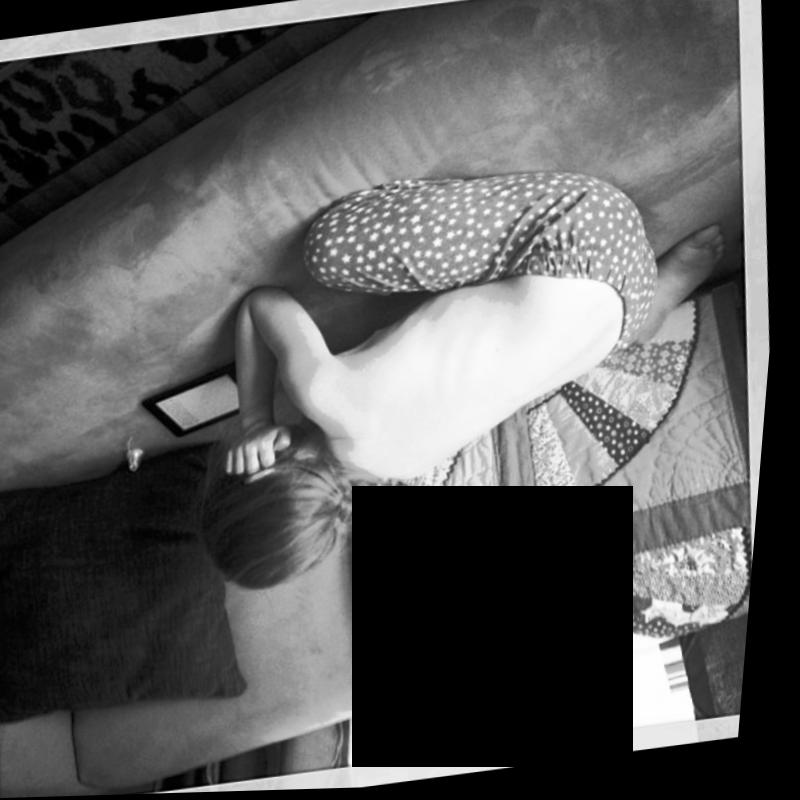pillow: (270, 270, 761, 749), (0, 435, 268, 726)
